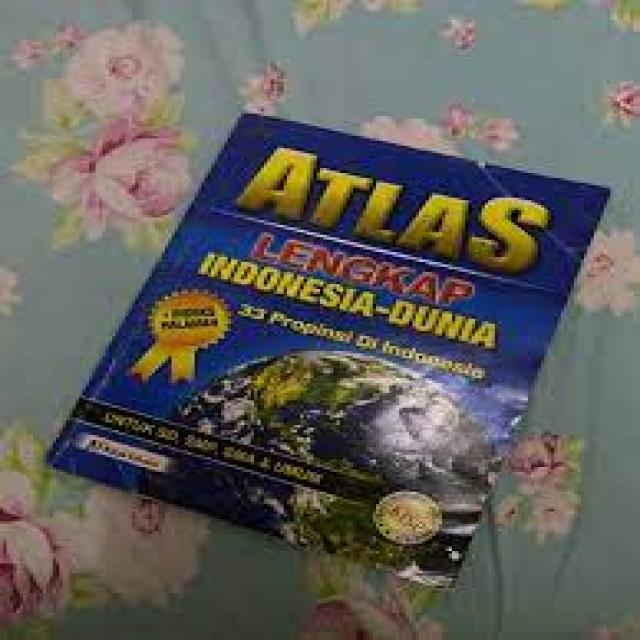book: (3, 117, 612, 595)
